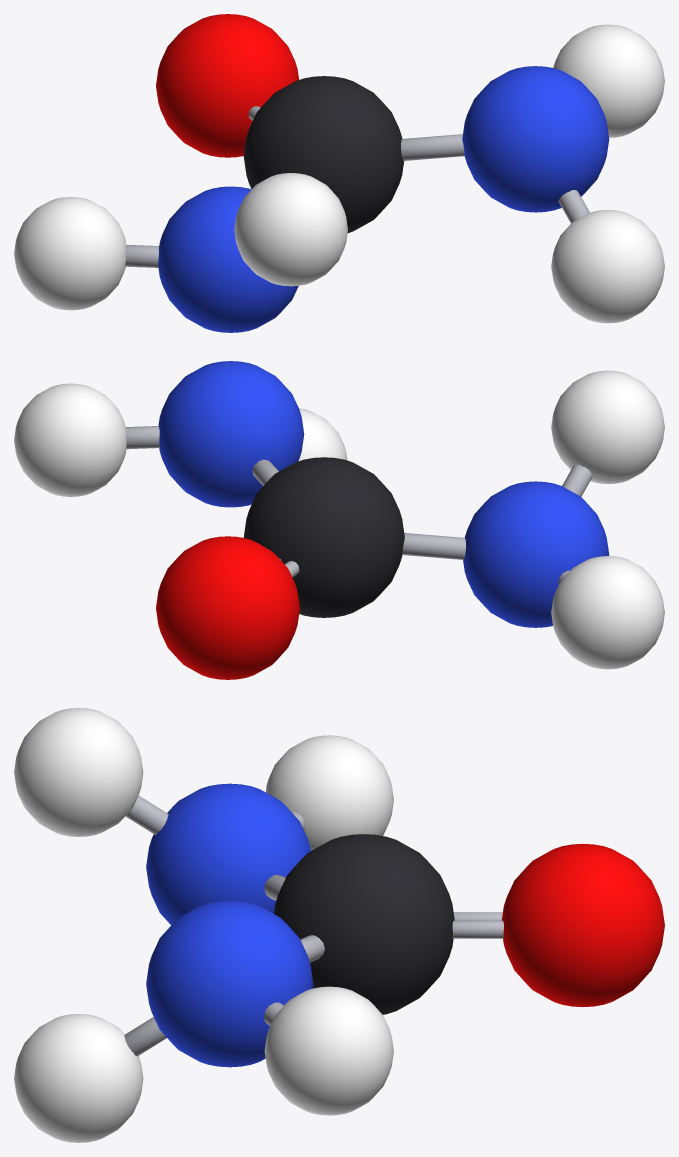
The model's file is urea.glb.
3 views of the same model, one above another, from view 1: azimuth 30°, elevation 25°; view 2: azimuth 150°, elevation 25°; view 3: azimuth 270°, elevation 25° (orthographic). The views are drawn at different scales.
Visible parts, largest first — view 1: N2, C1, O3, N0, H5, H7, H4, H6, bond1-0, bond3-0, bond6-0; view 2: C1, O3, N2, N0, H4, H6, H5, H7, bond0-0, bond5-0, bond4-0; view 3: C1, O3, N2, N0, H6, H5, H7, H4, bond2-1, bond6-0, bond4-0.
Boxes of the visible parts, bbox=[...] form: N2: bbox=[462, 66, 609, 212]; C1: bbox=[243, 76, 404, 232]; O3: bbox=[156, 14, 298, 157]; N0: bbox=[158, 186, 298, 332]; H5: bbox=[234, 173, 347, 286]; H7: bbox=[551, 210, 664, 323]; H4: bbox=[14, 197, 126, 310]; H6: bbox=[553, 24, 664, 137]; bond1-0: bbox=[401, 134, 464, 160]; bond3-0: bbox=[125, 245, 159, 267]; bond6-0: bbox=[558, 190, 589, 223]; C1: bbox=[243, 457, 404, 617]; O3: bbox=[156, 536, 299, 679]; N2: bbox=[158, 361, 304, 507]; N0: bbox=[463, 481, 609, 627]; H4: bbox=[551, 556, 664, 669]; H6: bbox=[14, 383, 126, 496]; H5: bbox=[551, 370, 664, 483]; H7: bbox=[298, 408, 347, 461]; bond0-0: bbox=[402, 533, 465, 559]; bond5-0: bbox=[126, 426, 159, 449]; bond4-0: bbox=[562, 464, 592, 496]; C1: bbox=[274, 834, 454, 1014]; O3: bbox=[501, 844, 664, 1006]; N2: bbox=[146, 900, 313, 1067]; N0: bbox=[146, 783, 310, 925]; H6: bbox=[264, 986, 393, 1115]; H5: bbox=[14, 708, 143, 836]; H7: bbox=[14, 1014, 143, 1142]; H4: bbox=[265, 735, 393, 850]; bond2-1: bbox=[452, 920, 503, 938]; bond6-0: bbox=[124, 1017, 166, 1056]; bond4-0: bbox=[125, 796, 168, 834].
Bounding box in the file's own units: 4.64 × 1.52 × 3.62.
